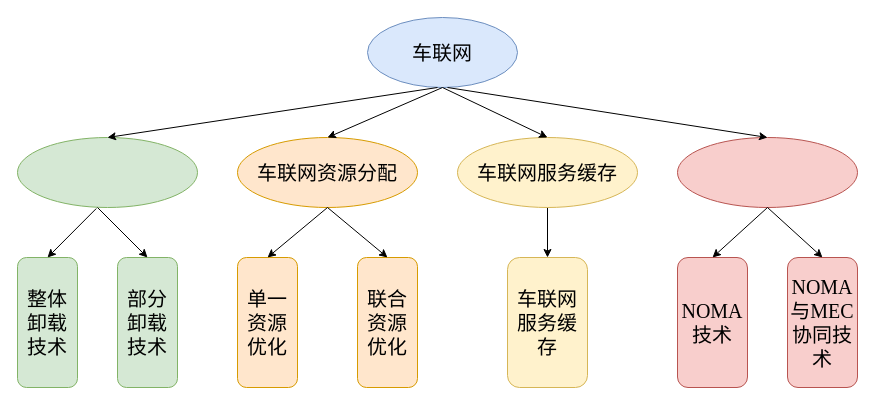
The diagram is 875 pixels wide and 405 high, and some of its shapes have lost their labels. The shapes that lost their labels are listed below. From the top down, each one's centre as x and y in pixels, then its label:
At [107,172]: "车联网计算卸载".
At [767,172]: "车联网通信技术".
